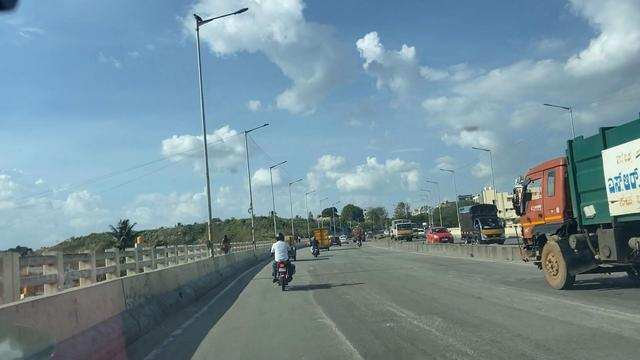HMV: (485, 115, 640, 301), (451, 195, 507, 245)
